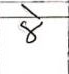e_matra: (22, 4, 39, 16)
